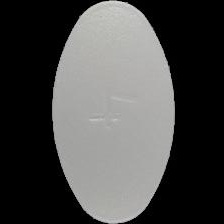68788-9893: (0, 0, 224, 224)
